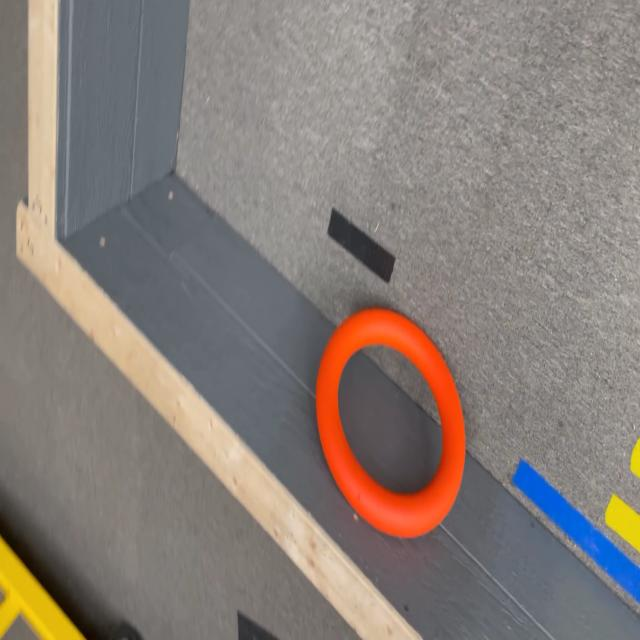note: (317, 306, 465, 538)
